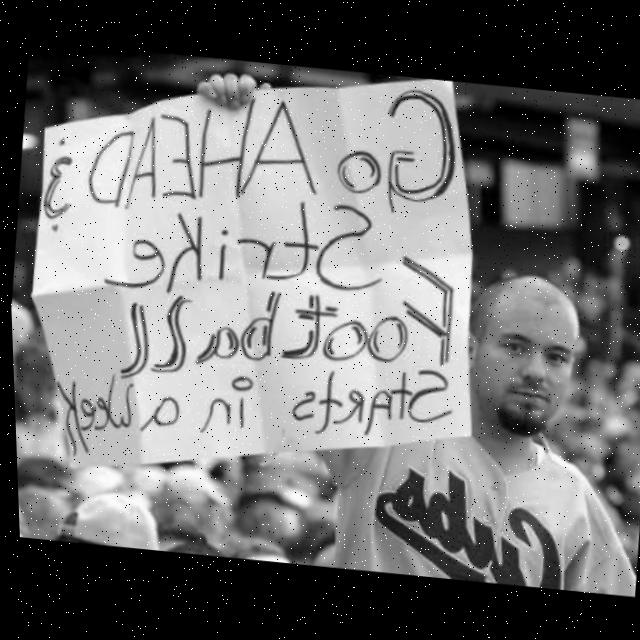face: (461, 273, 591, 436)
